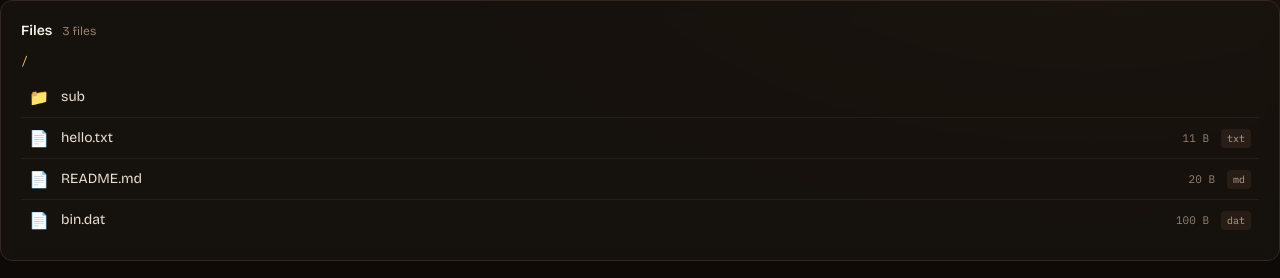
Test case: FileBrowser › opens a markdown file and renders it via Markdown
Click the text "README.md" at (102, 178), box 61,170 -> 142,187
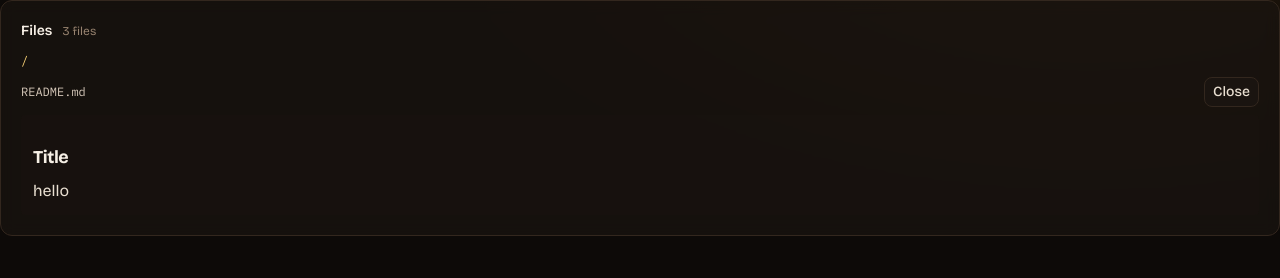
Expected: the heading "Title" is shown, 33,146 -> 68,168
